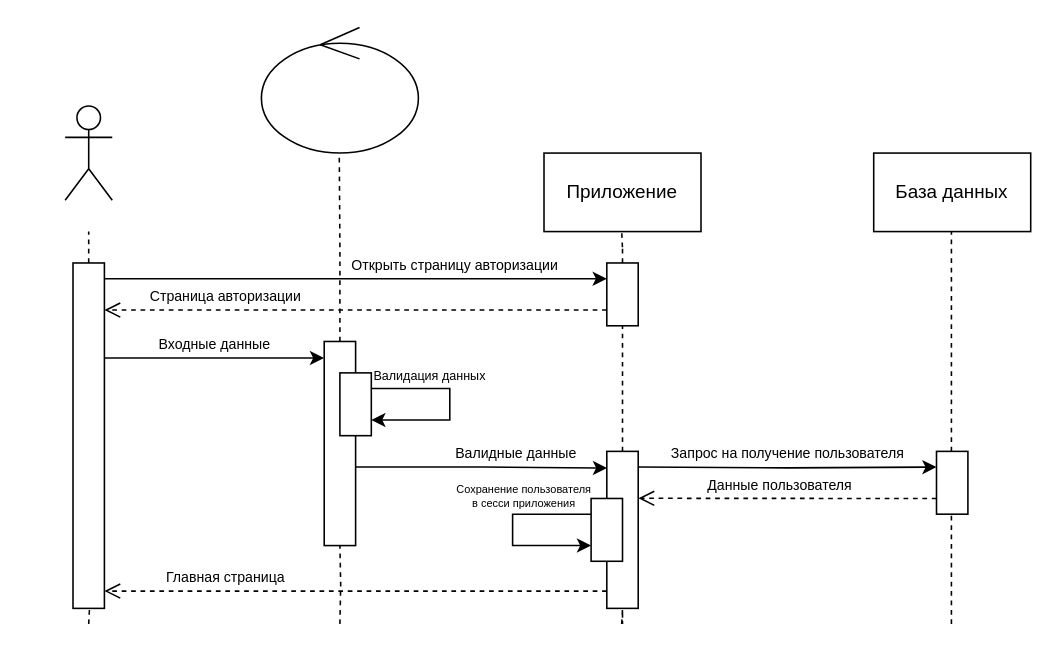
This 1058x653 diagram has some shape labels left out. Each missing label, with the centre of its shape:
"Пользователь" goes at (x=88, y=152).
"Форма авторизации" goes at (x=339, y=89).
